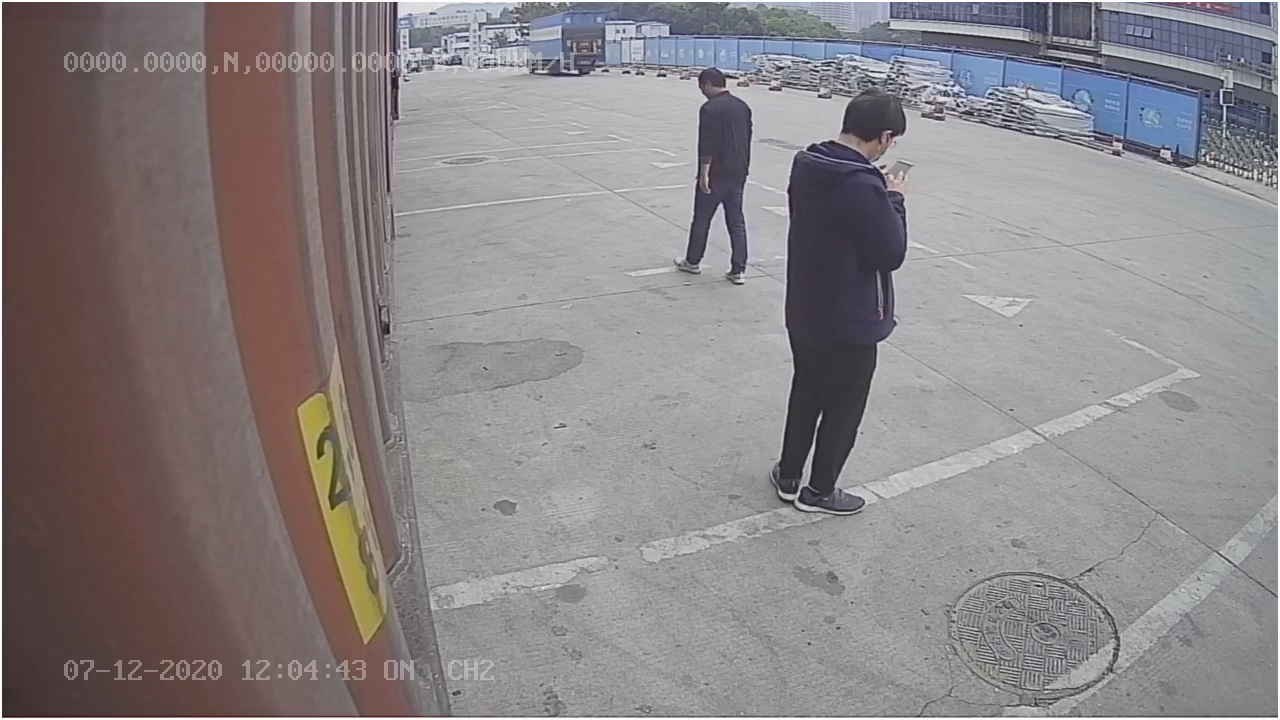person: (768, 80, 911, 516), (670, 61, 758, 284)
